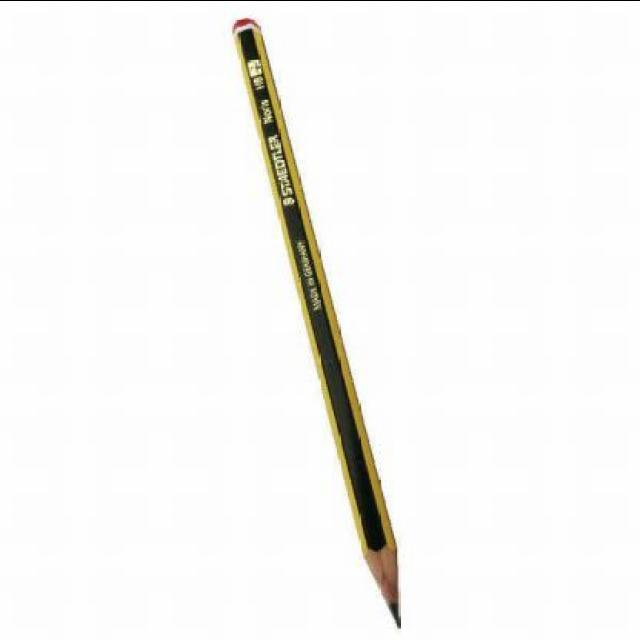Pencil: (346, 522, 414, 632)
